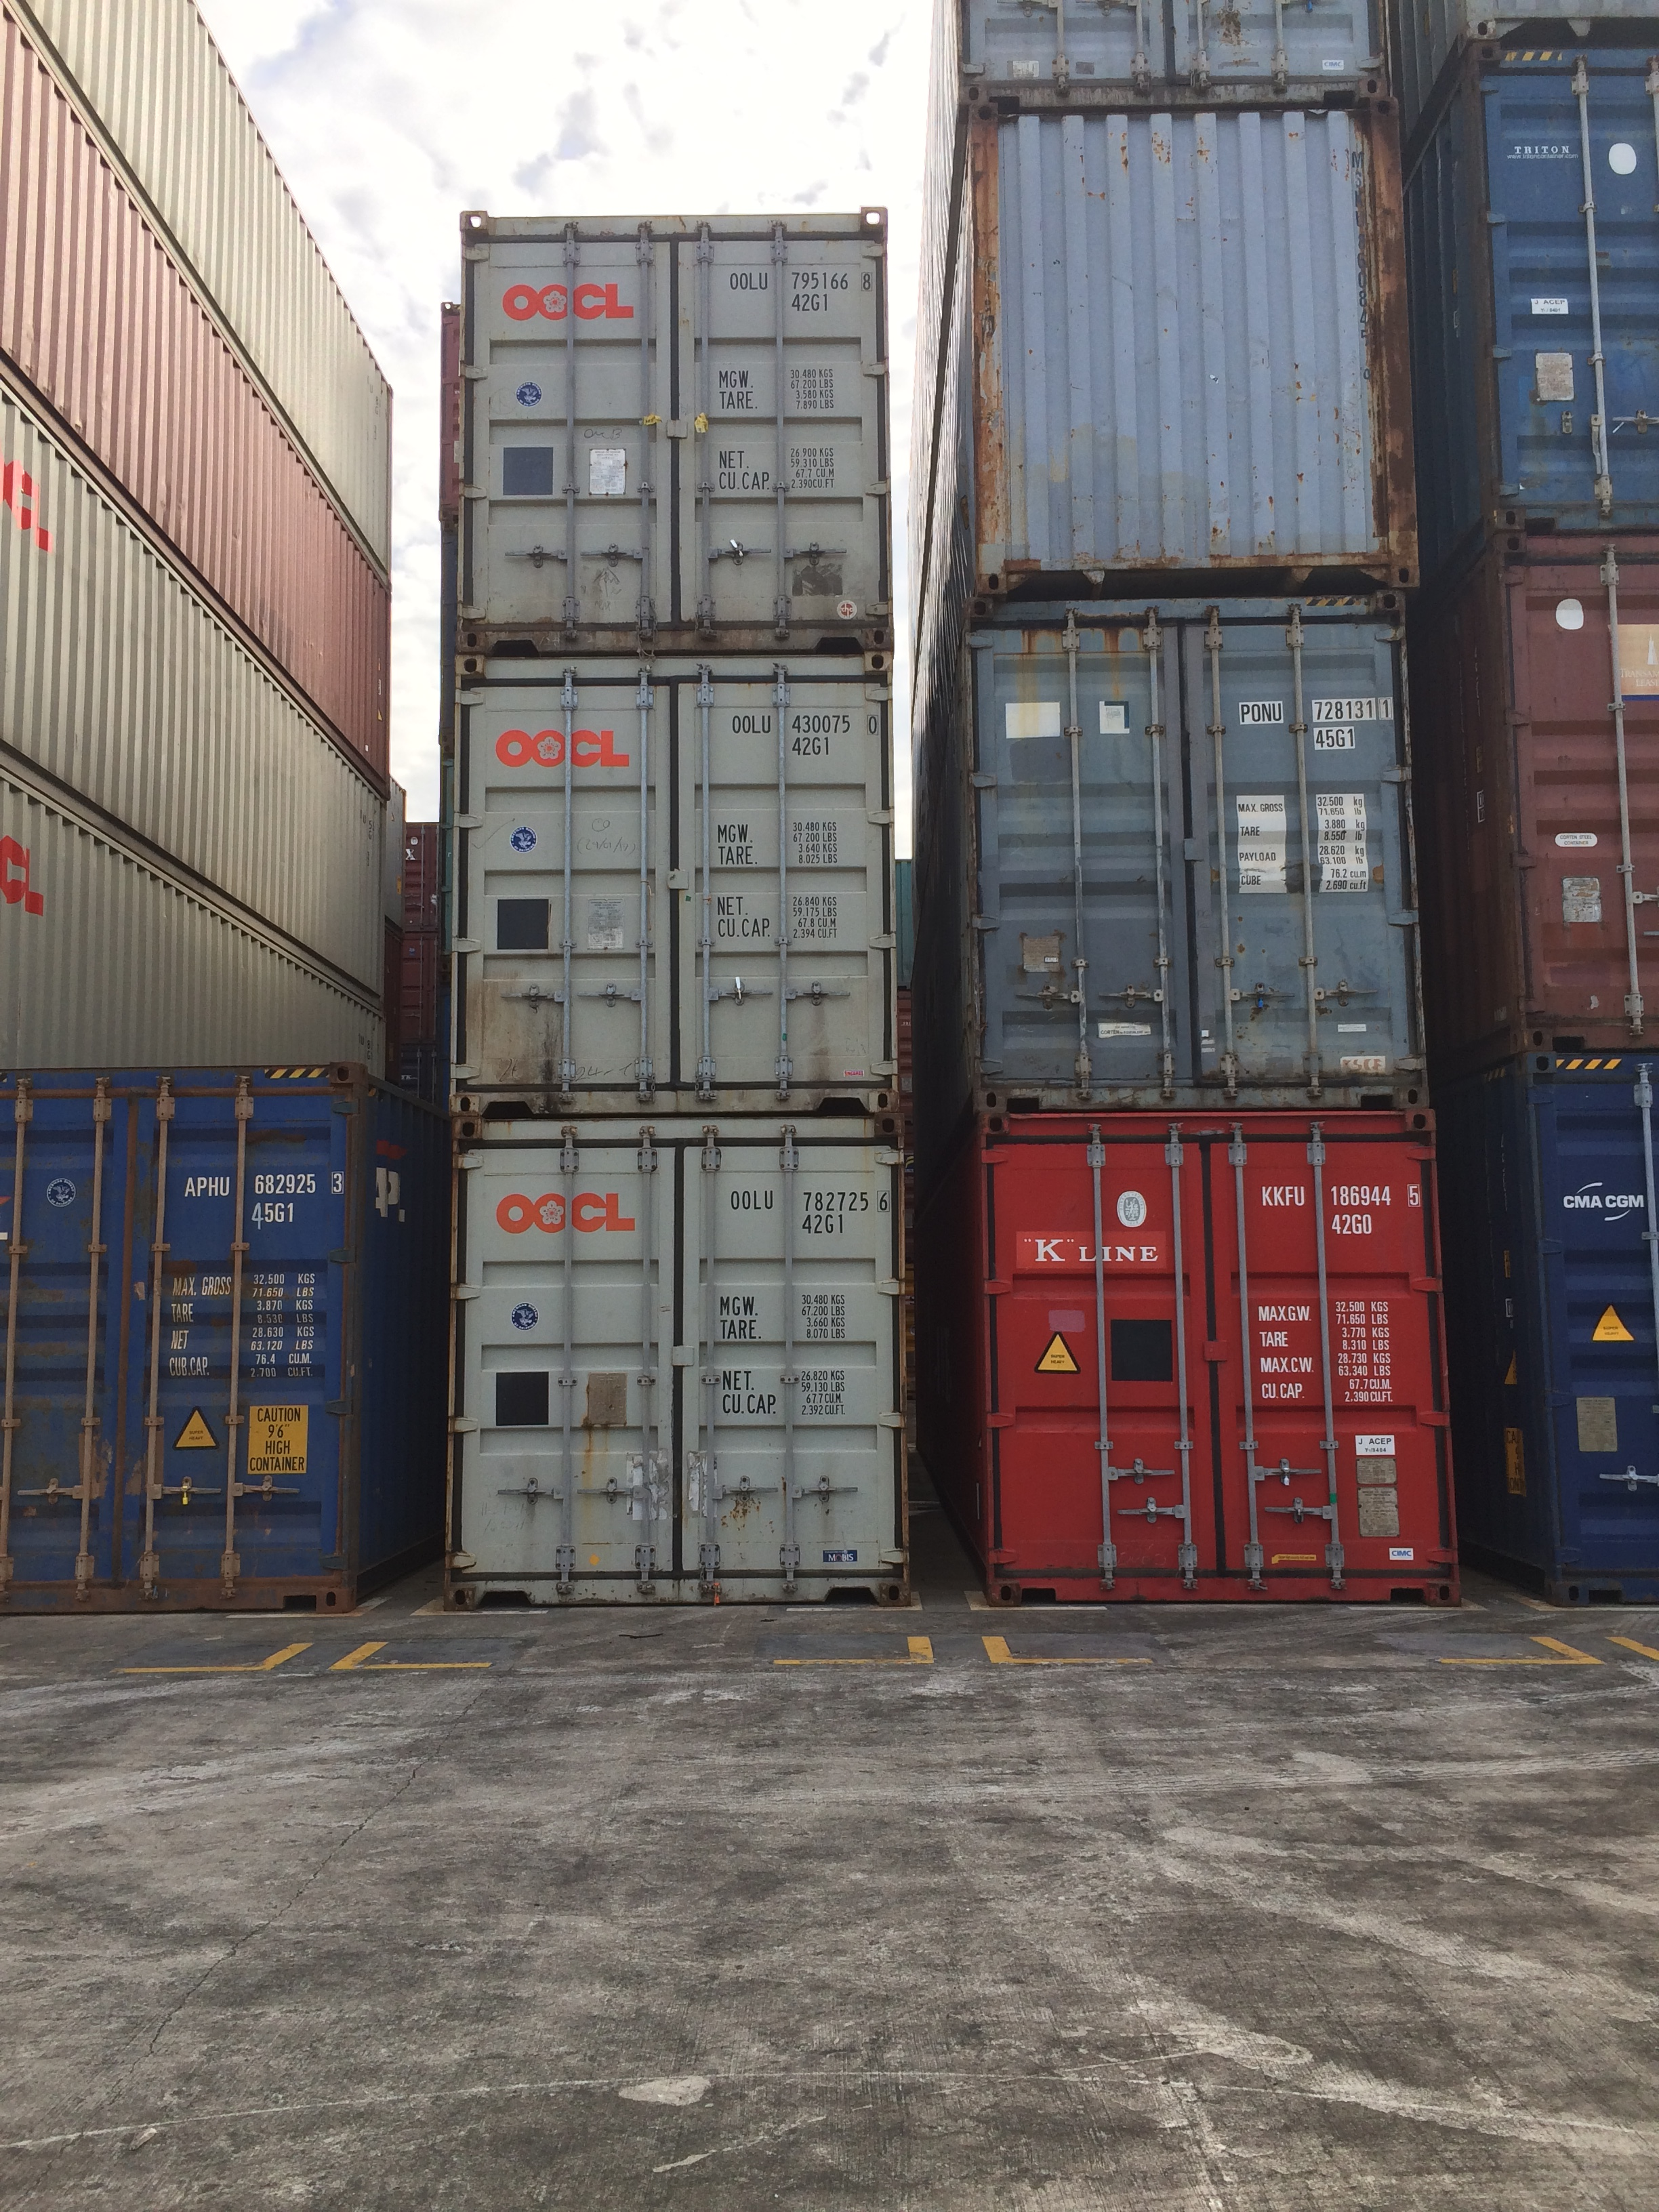container_door: (992, 596, 1443, 1109), (986, 1116, 1457, 1602), (469, 1122, 908, 1606), (0, 1064, 366, 1615), (464, 214, 885, 650), (467, 667, 887, 1104)
container_no_door: (979, 101, 1417, 582)
